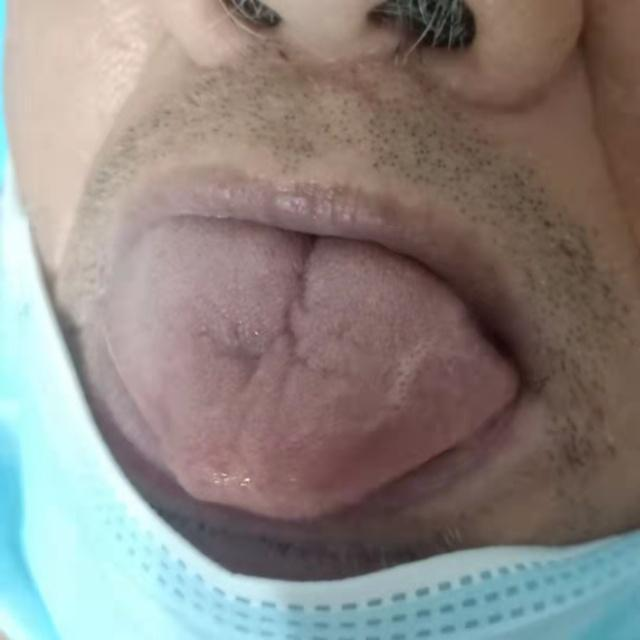liewenshe: (196, 234, 348, 381)
